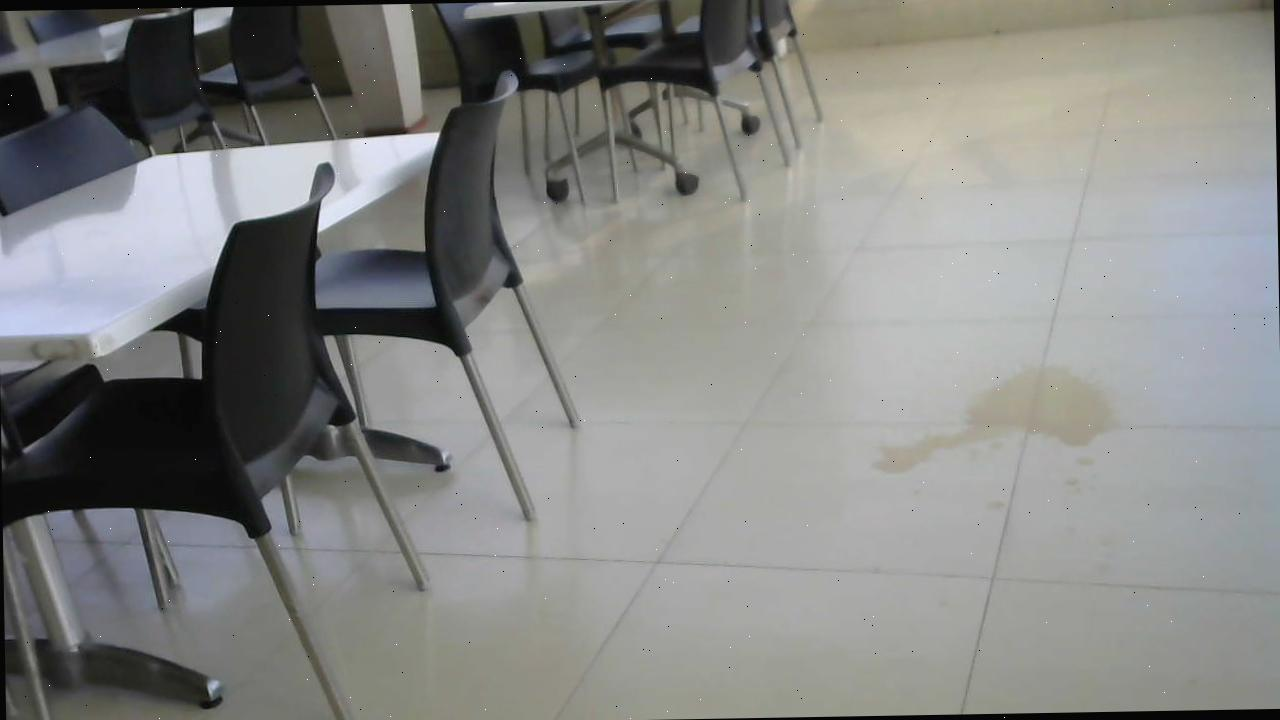dirty_floor: (848, 344, 1131, 532)
